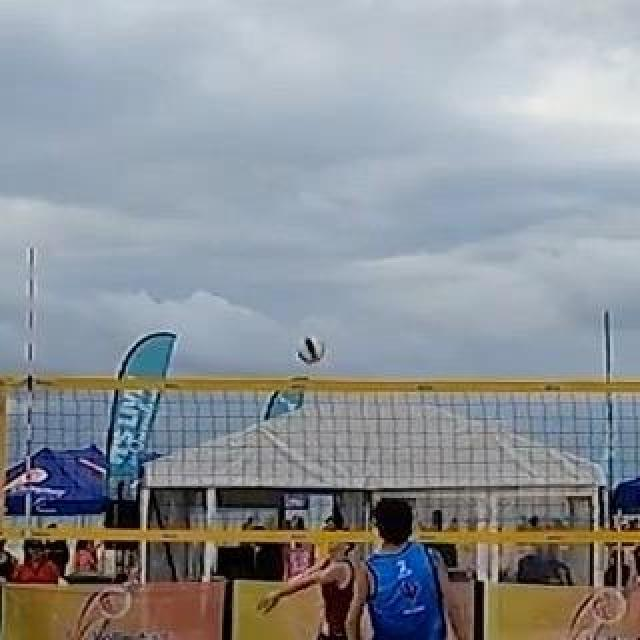volleyball: (299, 339, 325, 365)
